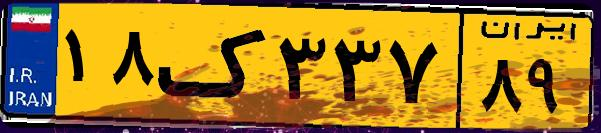1: (57, 26, 110, 100)
3: (270, 28, 330, 110), (330, 28, 385, 110)
7: (385, 28, 445, 110)
8: (475, 38, 525, 113), (110, 28, 158, 98)
9: (525, 38, 570, 115)
ک: (158, 12, 270, 120)
